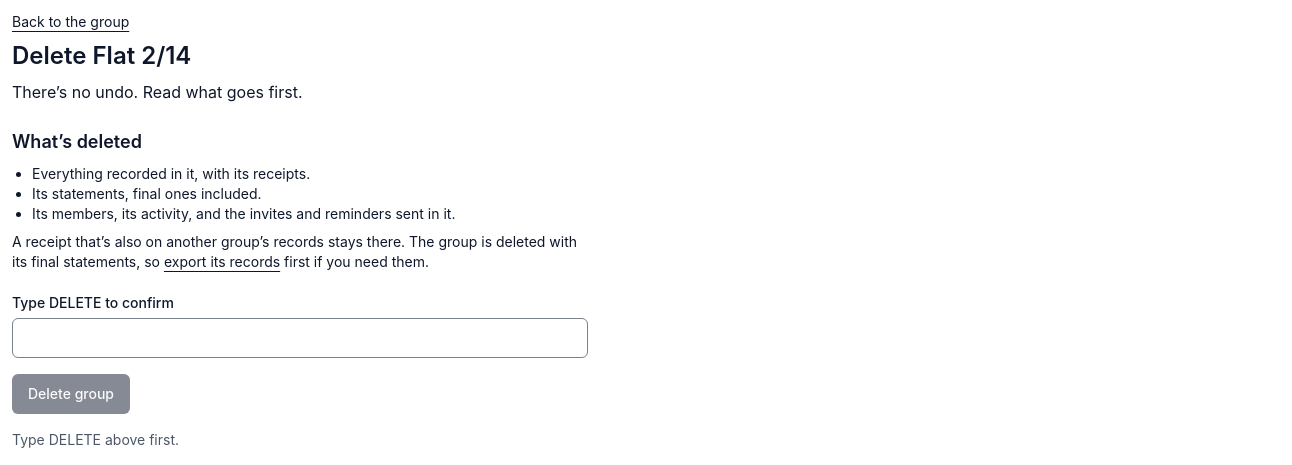
Test: DeleteGroupPage › treats NOT_A_MEMBER as done: a delete that finished took their member row
Type "DELETE" into the field labelled "Type DELETE to confirm" at (300, 338), box [12,318,588,358]
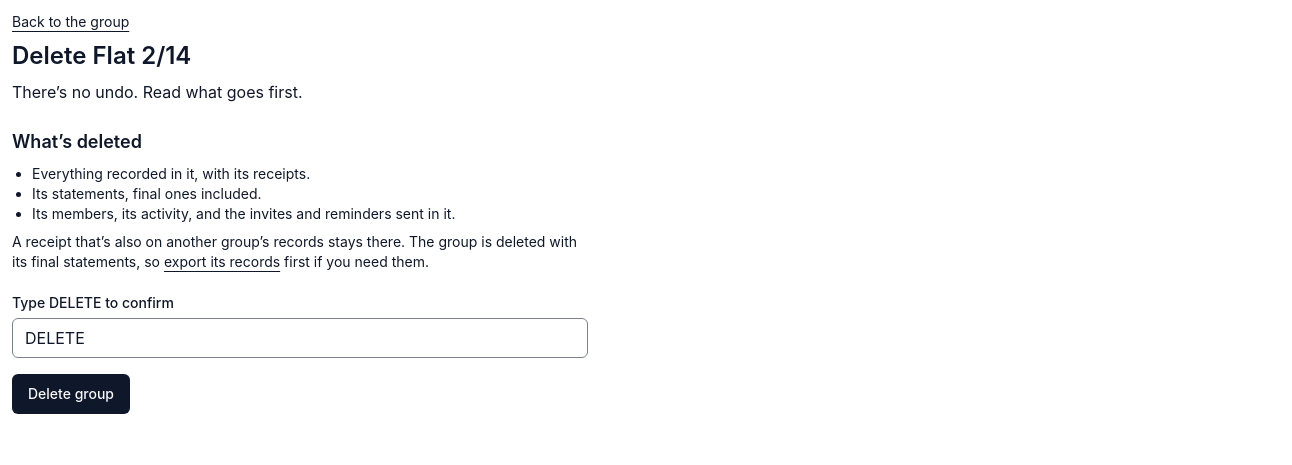
Click the button "Delete group" at (71, 394), box [12,374,130,414]
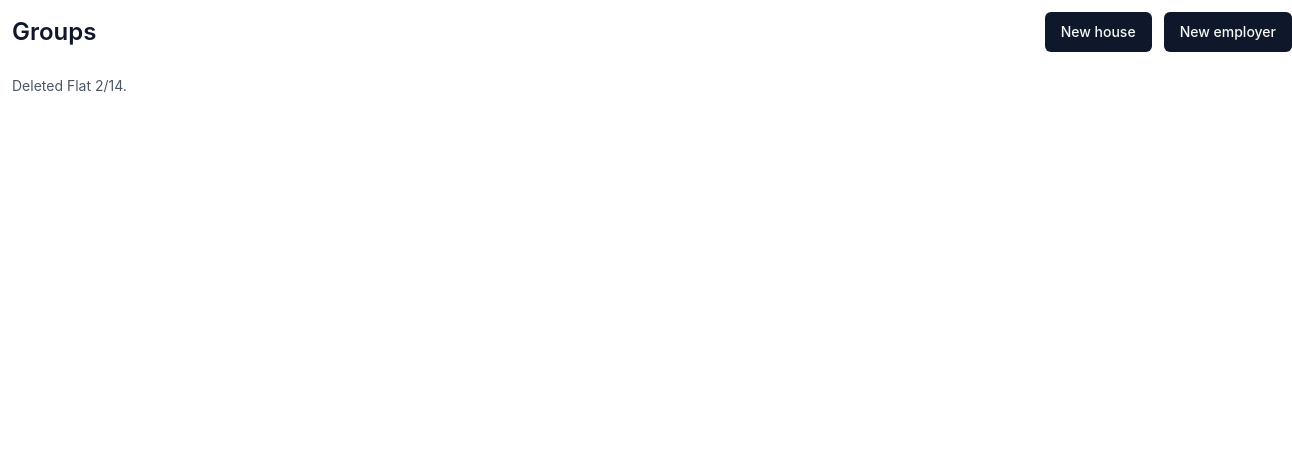
Expected: the text "Deleted Flat 2/14." is shown, [12,77,127,94]
